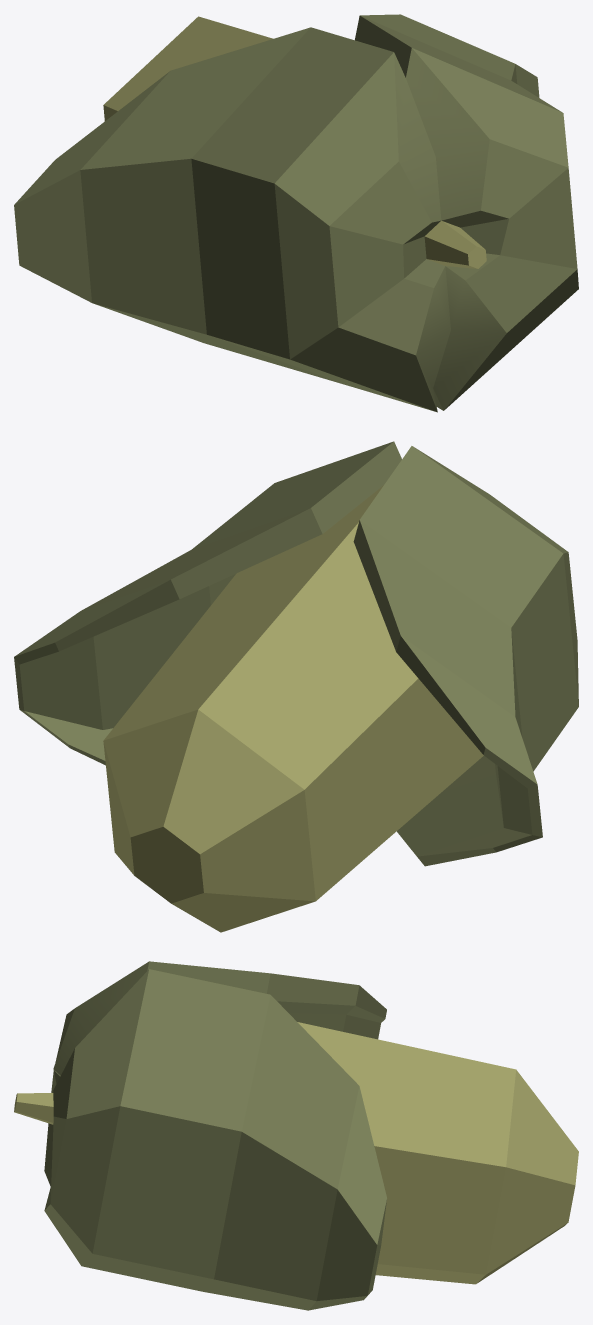
3 views of the same model, one above another, from view 1: azimuth 30°, elevation 25°; view 2: azimuth 150°, elevation 25°; view 3: azimuth 270°, elevation 25° (orthographic). The views are drawn at different scales.
Visible parts, largest first — view 1: 玉米_pCylinder7; view 2: 玉米_pCylinder7; view 3: 玉米_pCylinder7.
Boxes of the visible parts, x1,y1,x2,y2 form: 玉米_pCylinder7: [14, 14, 578, 412]; 玉米_pCylinder7: [14, 441, 578, 932]; 玉米_pCylinder7: [14, 961, 578, 1310].
Bounding box in the file's own units: 23.2 × 15.07 × 24.17.
